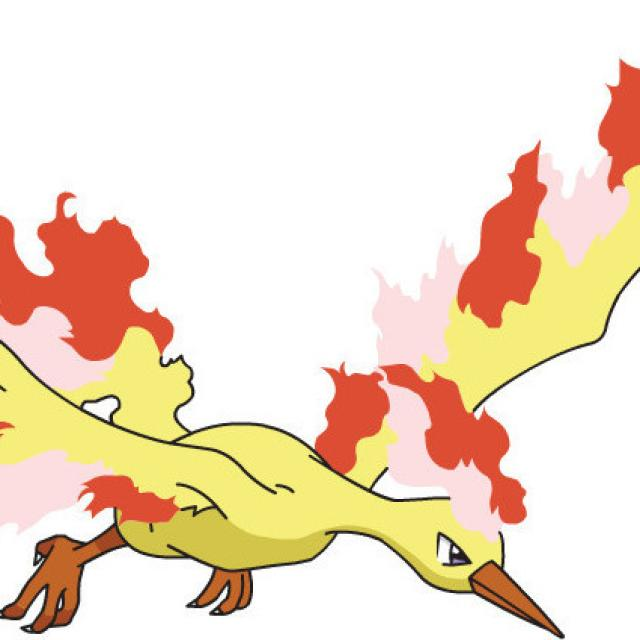Moltres: (5, 314, 583, 640)
